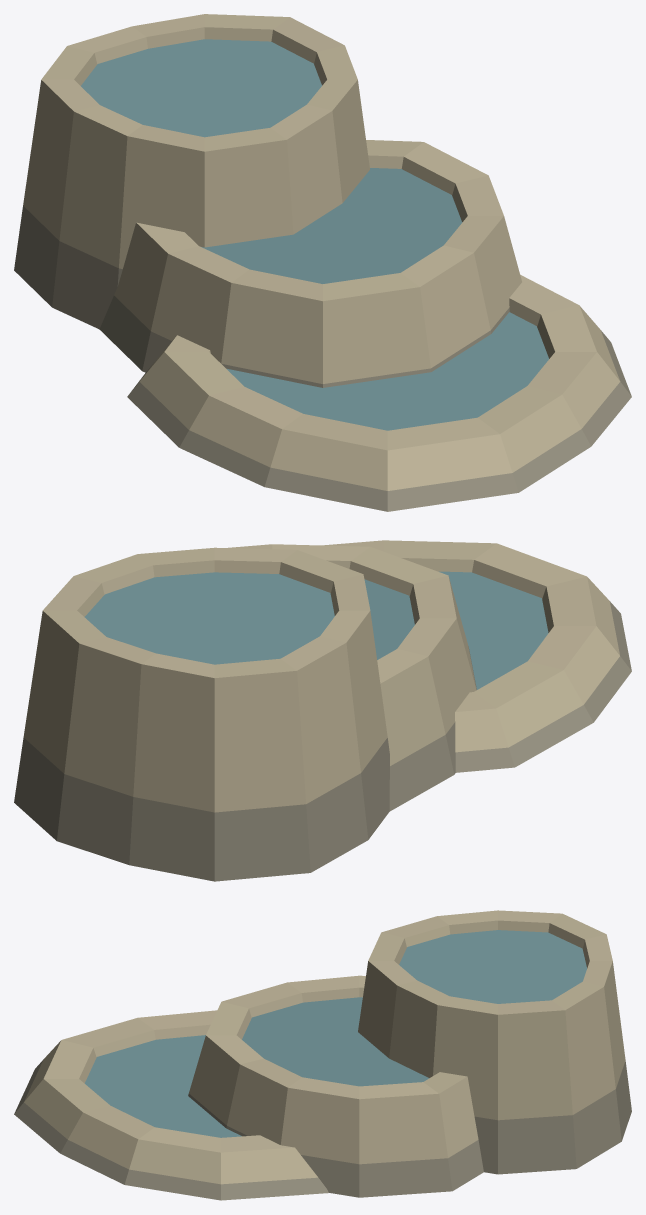
Rendered from Environment_Landmark_Geothermal_001_LOD1.glb.
The picture shows the model from 3 angles, top to bottom: view 1: azimuth 30°, elevation 25°; view 2: azimuth 150°, elevation 25°; view 3: azimuth 270°, elevation 25°; orthographic projection. The views are drawn at different scales.
Parts seen in each view (by area): view 1: Environment_Landmark_Geothermal_001_LOD1; view 2: Environment_Landmark_Geothermal_001_LOD1; view 3: Environment_Landmark_Geothermal_001_LOD1.
Part boxes in pixels (left/top/right/bottom): Environment_Landmark_Geothermal_001_LOD1: left=14, top=14, right=631, bottom=511; Environment_Landmark_Geothermal_001_LOD1: left=14, top=540, right=631, bottom=881; Environment_Landmark_Geothermal_001_LOD1: left=14, top=910, right=631, bottom=1200.
Bounding box in the file's own units: 8.53 × 3.6 × 13.38.
